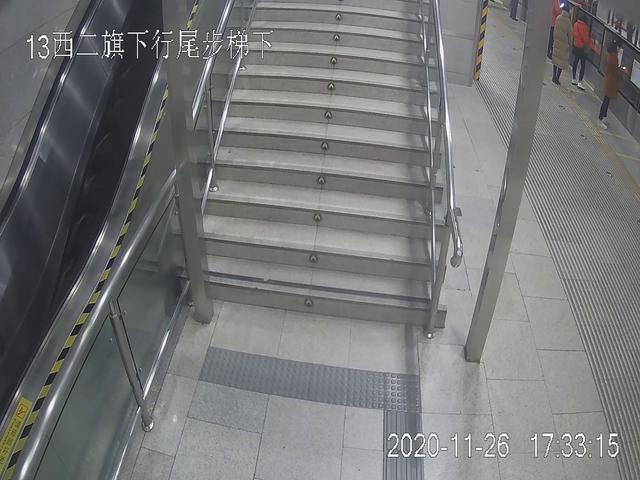person: (593, 33, 628, 126), (548, 1, 582, 83), (568, 7, 590, 92)
